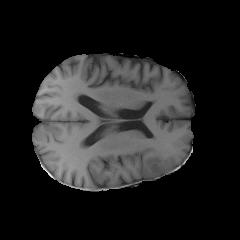glioma: (128, 136, 174, 177)
